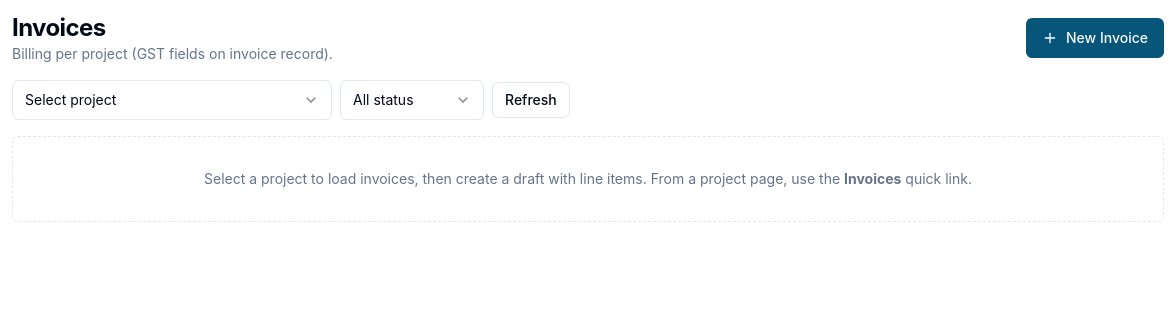
it: InvoicesPage › displays all status filter options
Click the dropdown labelled "All status" at (412, 100), box 340,80 -> 484,120
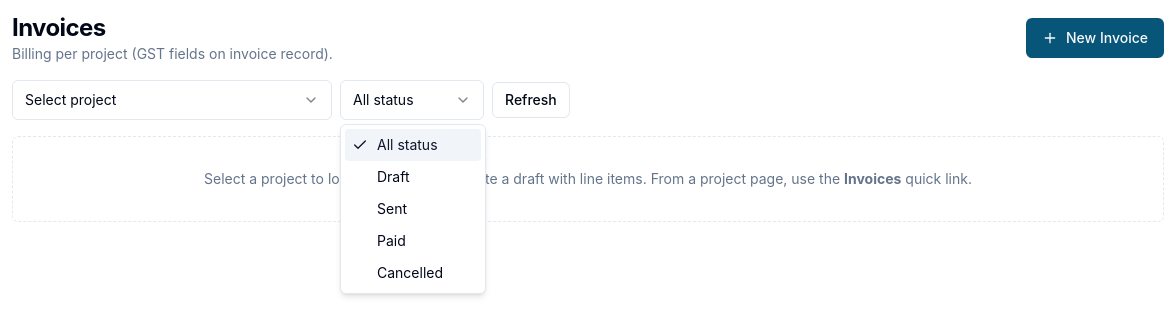
Expected: the option "All status" is shown, 345,129 -> 481,161
Expected: the option "Draft" is shown, 377,168 -> 410,185
Expected: the option "Sent" is shown, 377,200 -> 407,217
